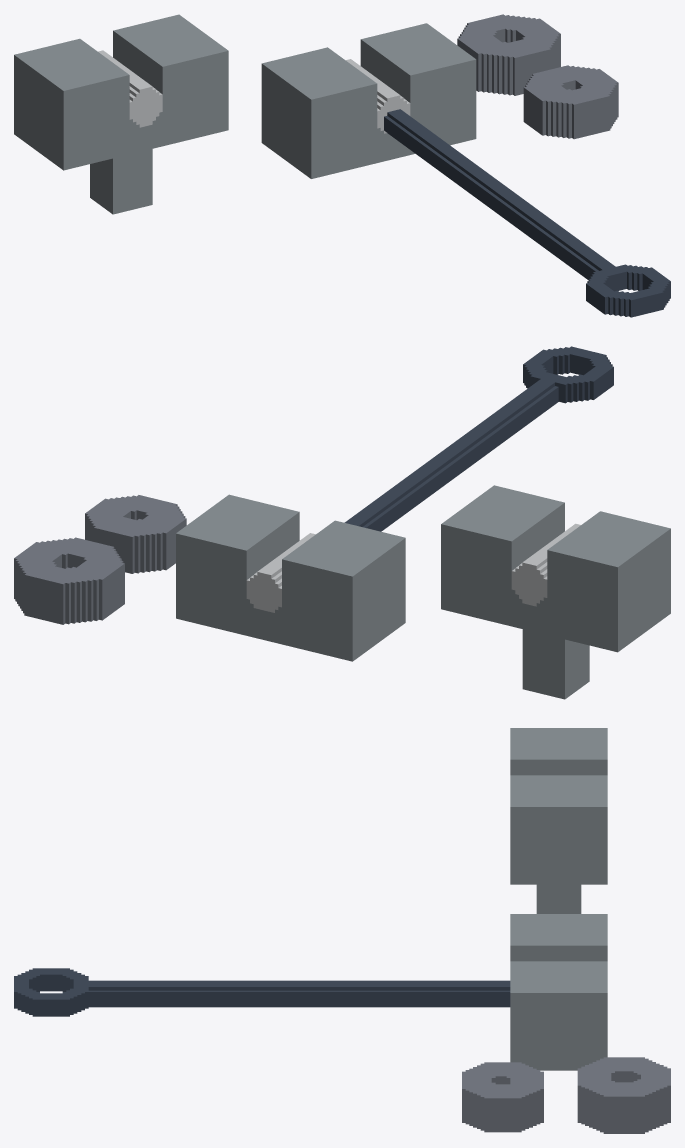
The model's file is swage.glb.
The picture shows the model from 3 angles, top to bottom: view 1: azimuth 30°, elevation 25°; view 2: azimuth 150°, elevation 25°; view 3: azimuth 270°, elevation 25°; orthographic projection. The views are drawn at different scales.
Parts seen in each view (by area): view 1: swage:compound; view 2: swage:compound; view 3: swage:compound.
Part boxes in pixels (x1,y1,x2,y2): swage:compound: (14, 14, 670, 317); swage:compound: (14, 346, 670, 699); swage:compound: (14, 728, 670, 1133).
Bounding box in the file's own units: 0.33 × 0.086 × 0.352.
